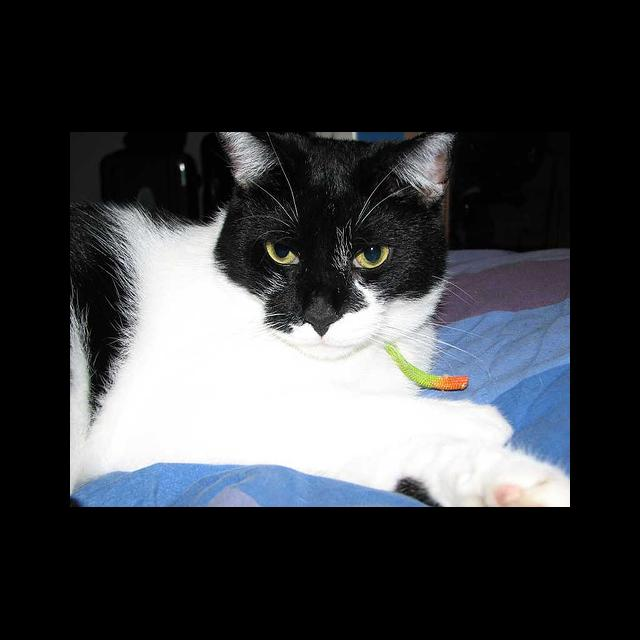animals: (213, 132, 463, 334)
